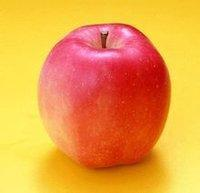apple: (36, 24, 170, 168)
